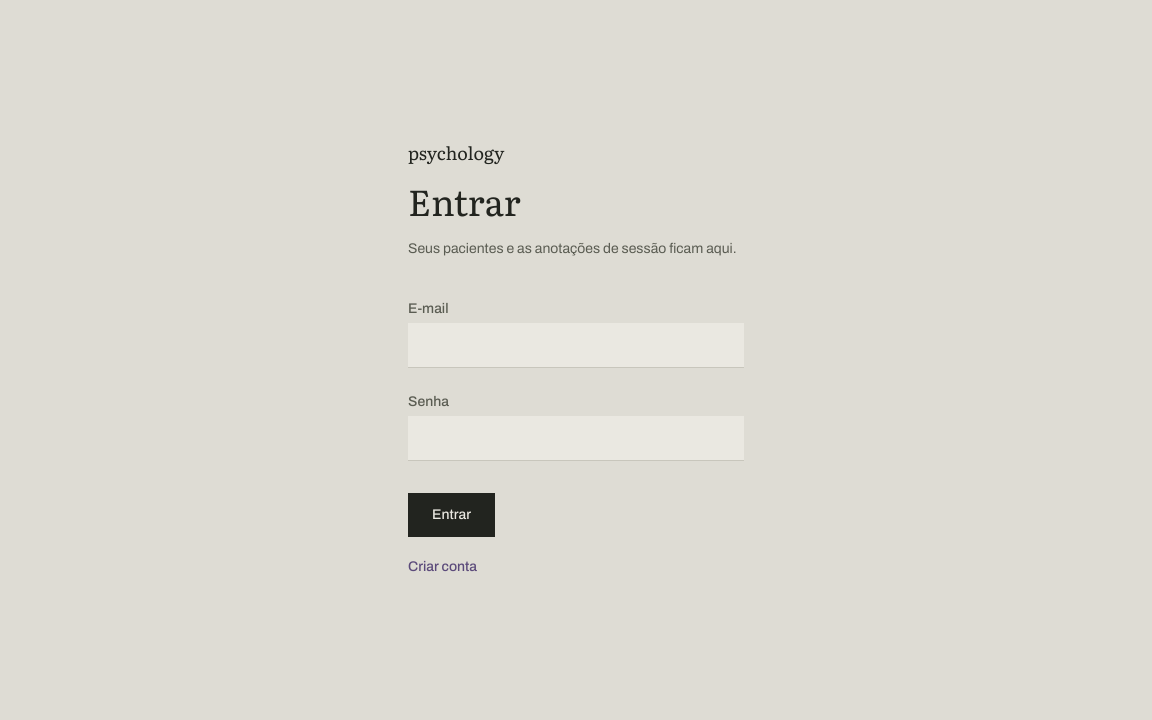
Scenario: rotas › depois de entrar, volta para o destino que exigiu a sessao
Type "ana@teste.com" into the field labelled "E-mail". click: [576, 345]
box: left=408, top=322, right=744, bottom=368
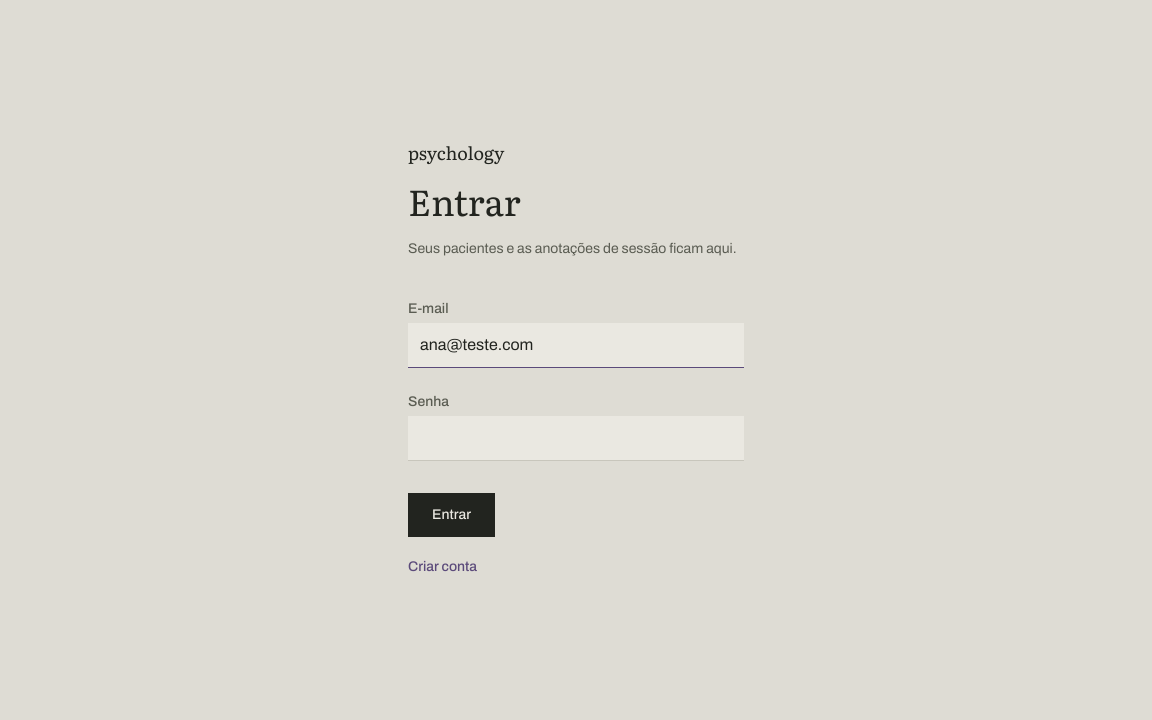
Type "senhaforte123" into the password field labelled "Senha". click: [576, 438]
box: left=408, top=416, right=744, bottom=460
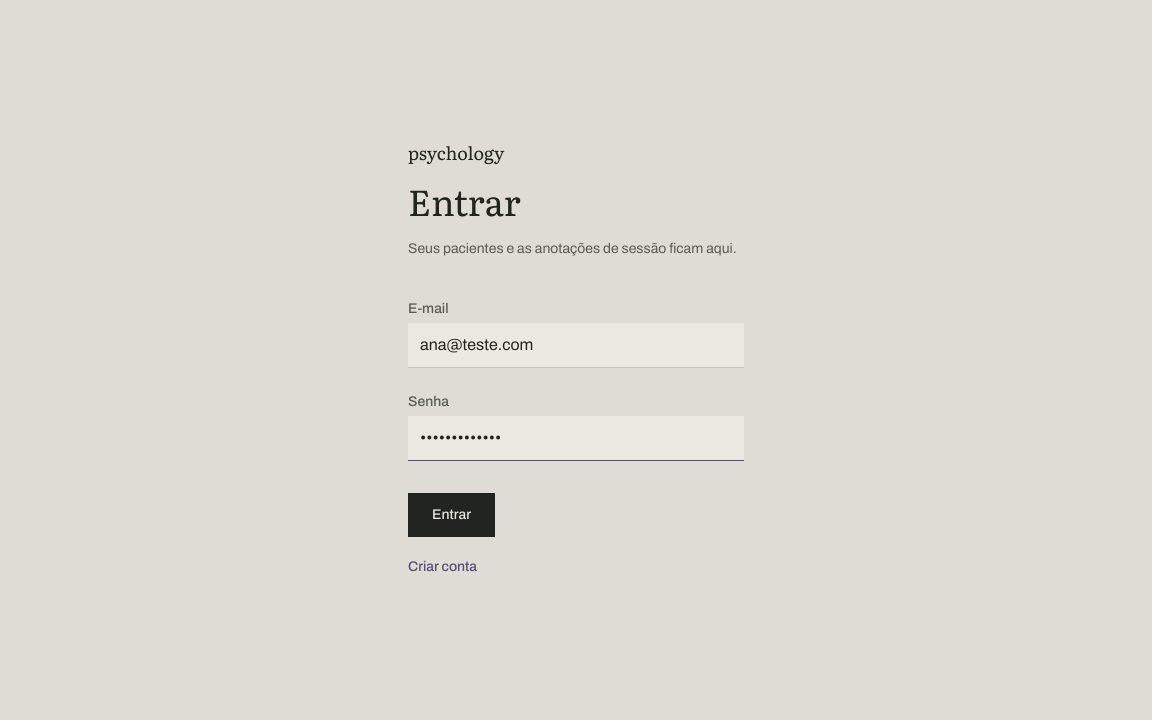
Click the button "Entrar". click: [452, 514]
box: left=408, top=492, right=495, bottom=536
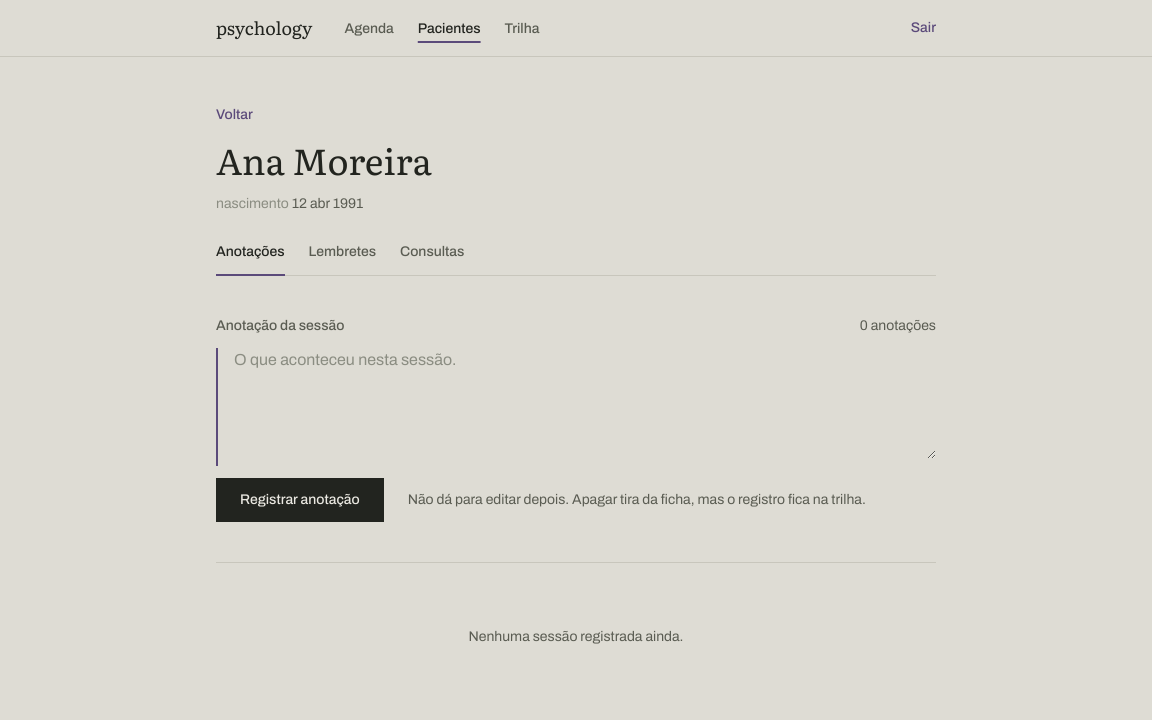
Now the heading "Ana Moreira" is shown, box left=216, top=133, right=432, bottom=186
